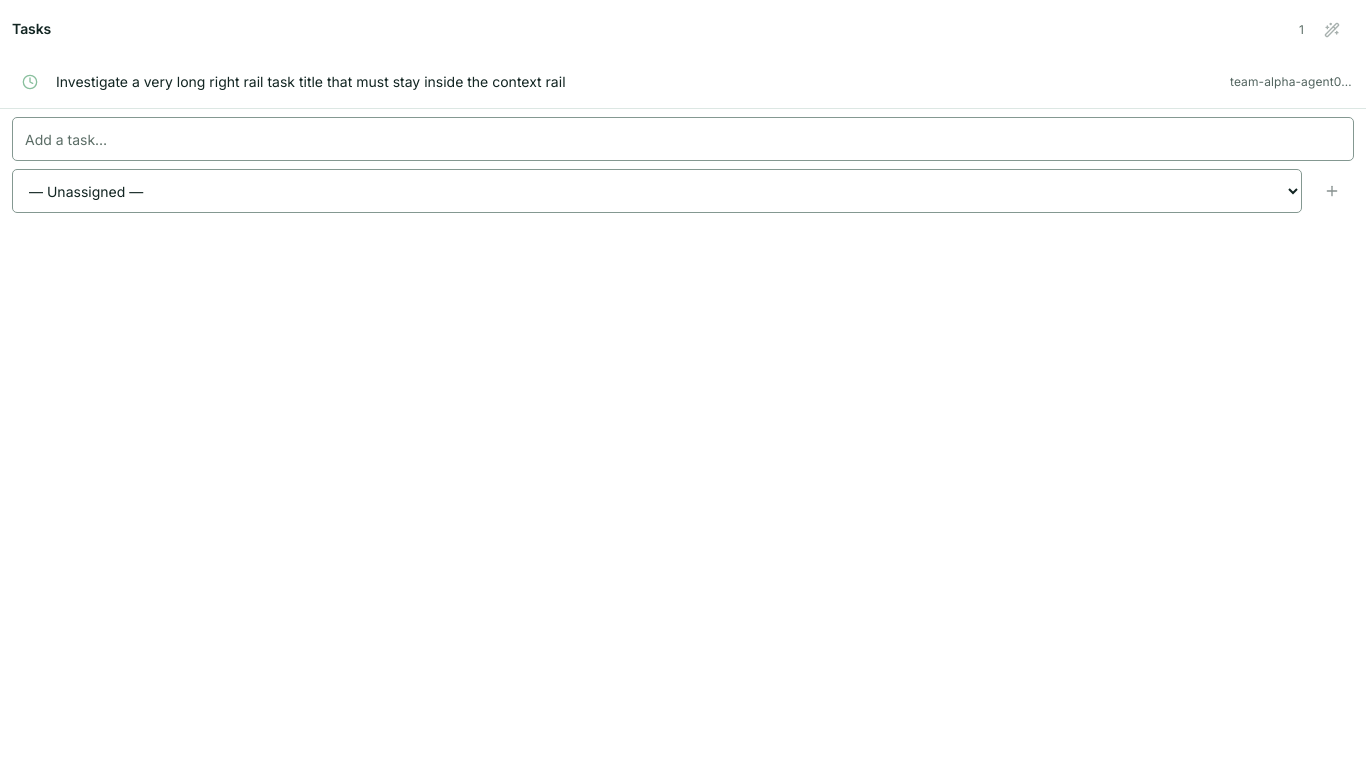
Scenario: TasksSection detail dialog › shows run-owned tasks read-only
The image size is (1366, 768).
Click the button with aria-label "Open Investigate a very long right rail task title that must" at (311, 82), box [56,60,1226,104]
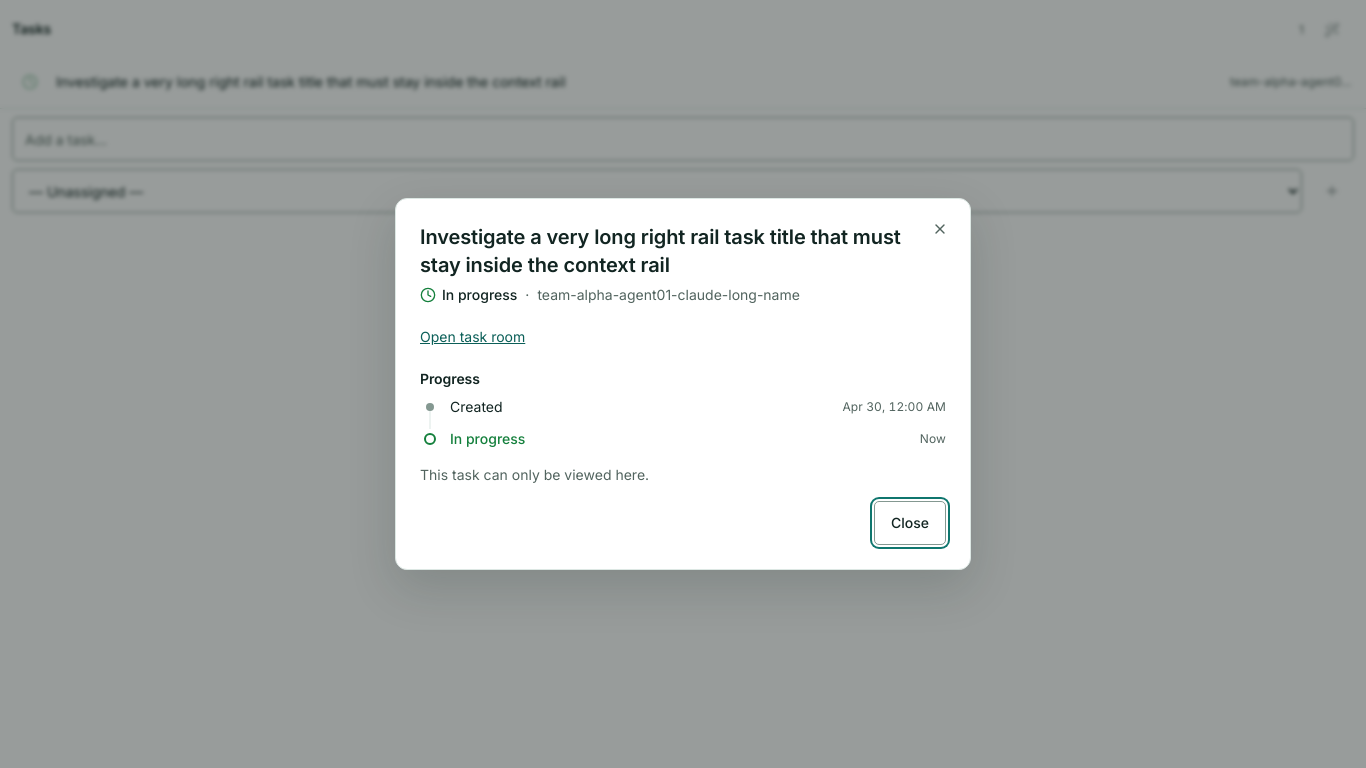
expect the text "This task can only be viewed here." is shown: met, box [420,466,649,483]
